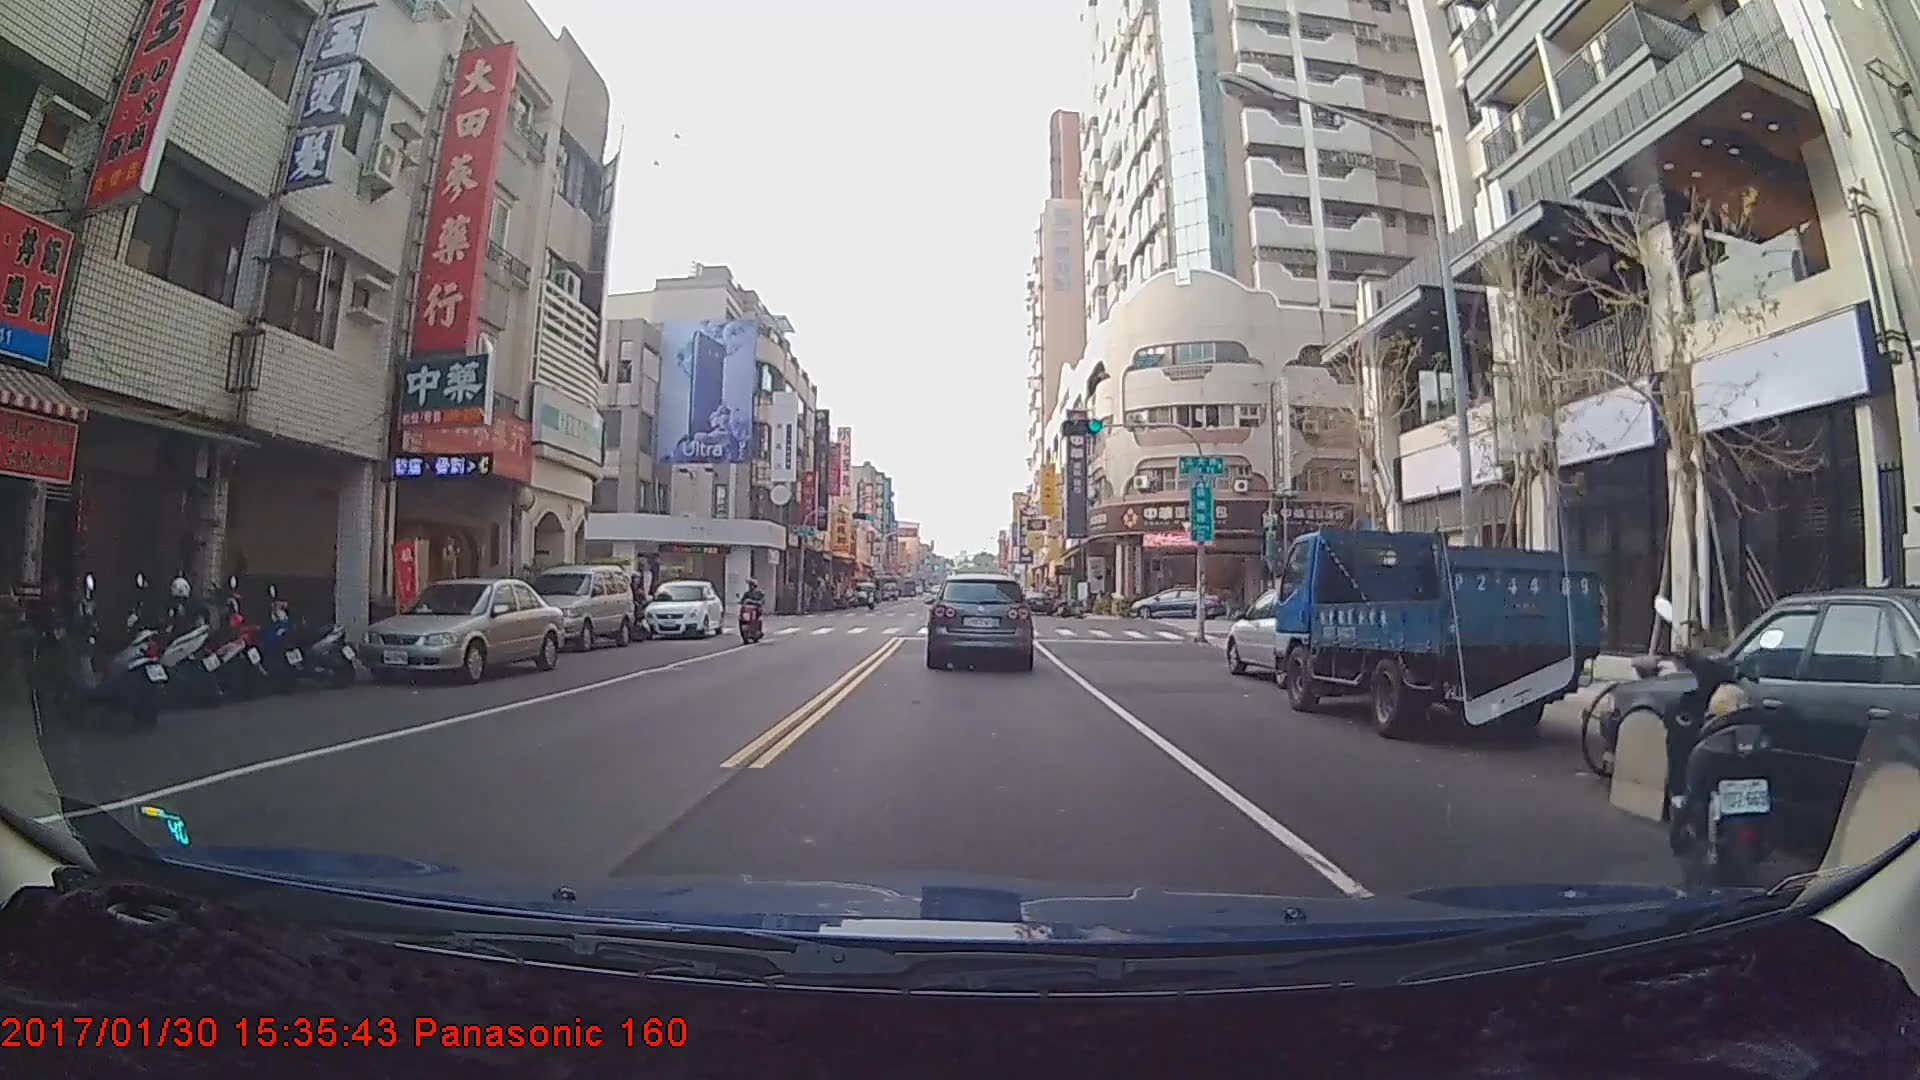rider: (739, 580, 770, 647)
vehicle: (1275, 530, 1601, 737), (352, 575, 565, 684), (1224, 582, 1362, 690), (508, 561, 635, 654), (926, 573, 1033, 669), (643, 578, 725, 638), (1128, 583, 1218, 617), (1021, 587, 1053, 613), (851, 578, 875, 604)
